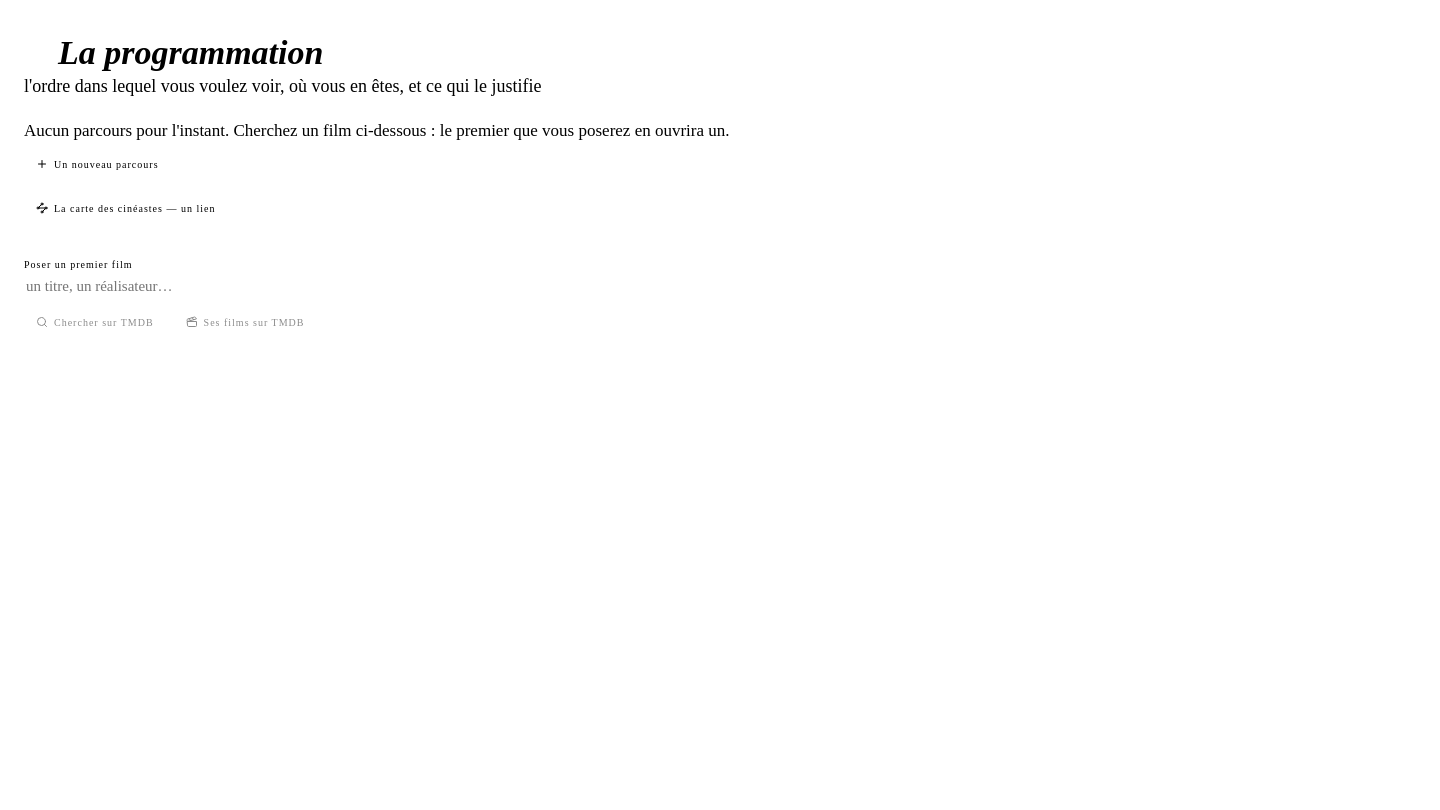
Test: la moisson › ne demande rien à l'ouverture, et rien sans un nom
Step 1. Click the button "La carte des cinéastes — un lien" → click(126, 208), box [24,195,227,221]
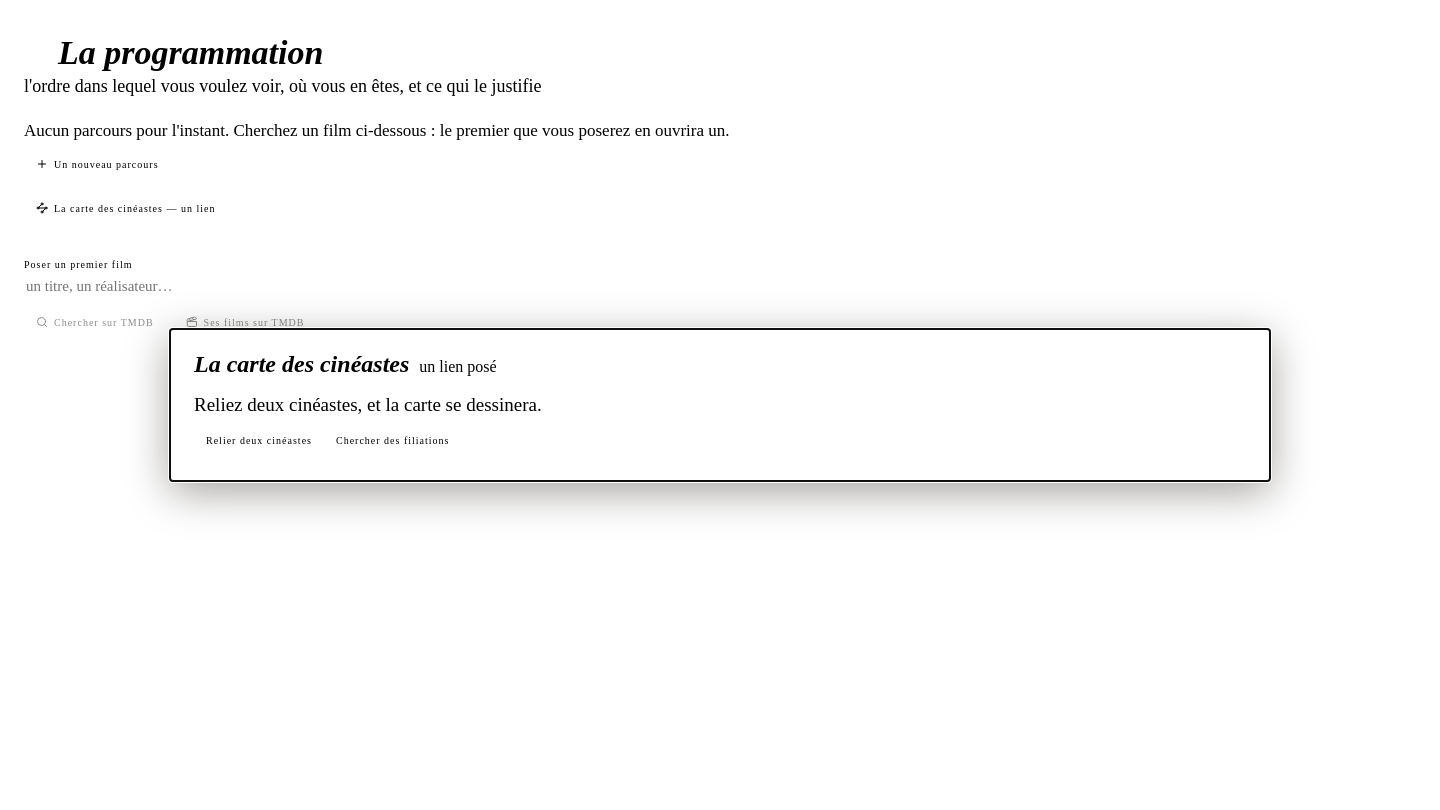
Step 2. Click the button "Chercher des filiations" → click(393, 440), box [324,428,462,453]
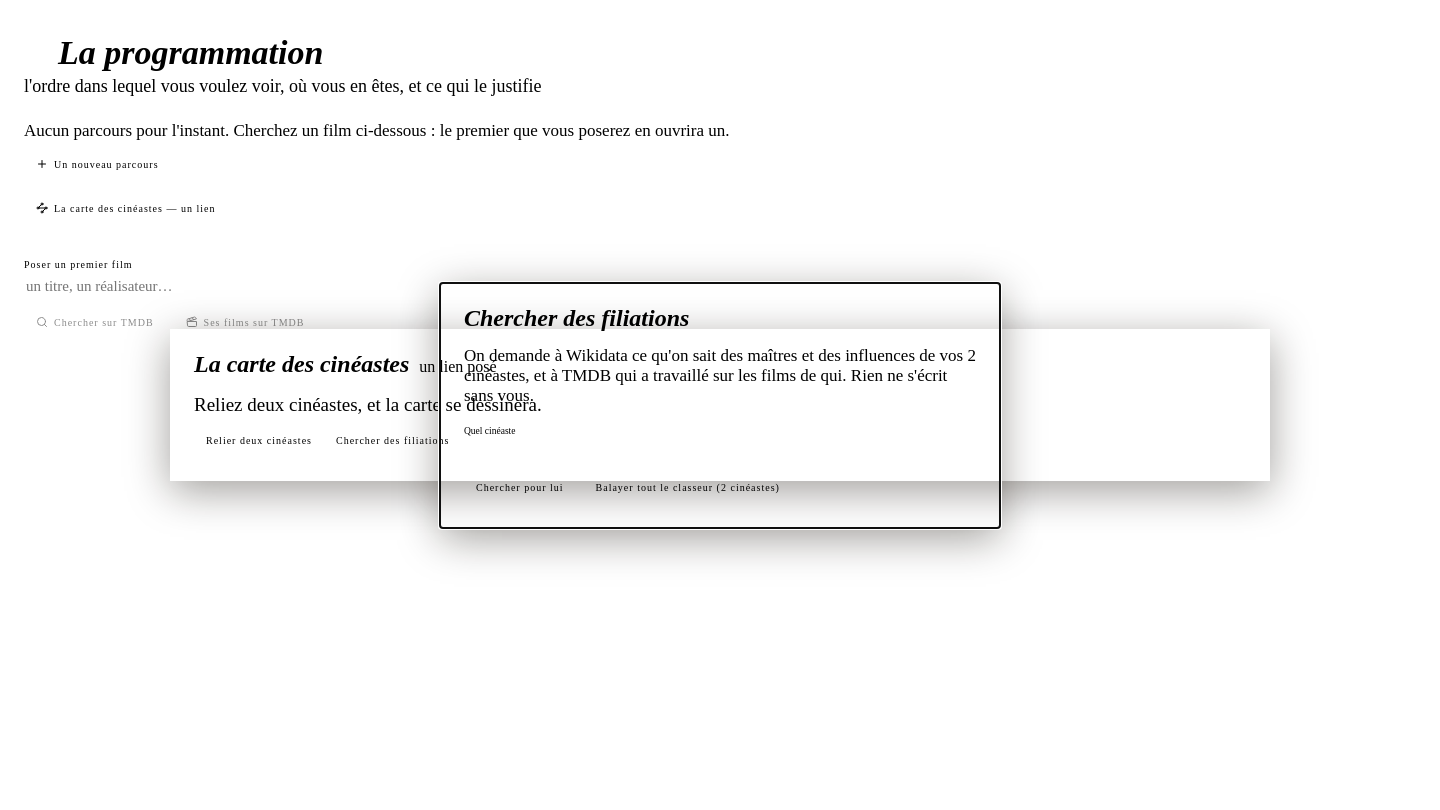
Now the button "Chercher pour lui" is disabled, box [464,474,576,500]
